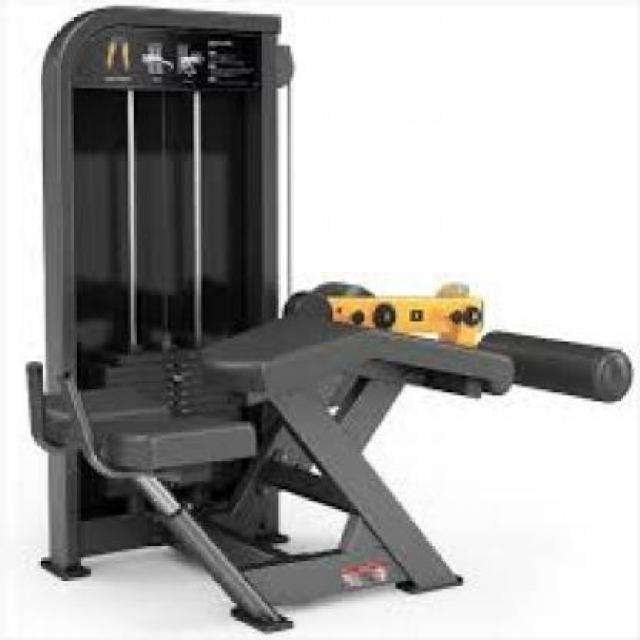reg curl machine: (23, 7, 635, 636)
